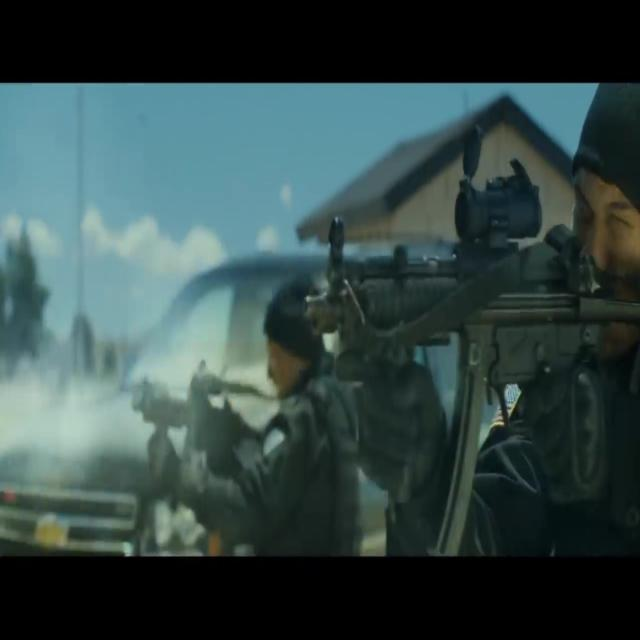Weapon: (291, 112, 640, 576), (121, 355, 289, 504)
